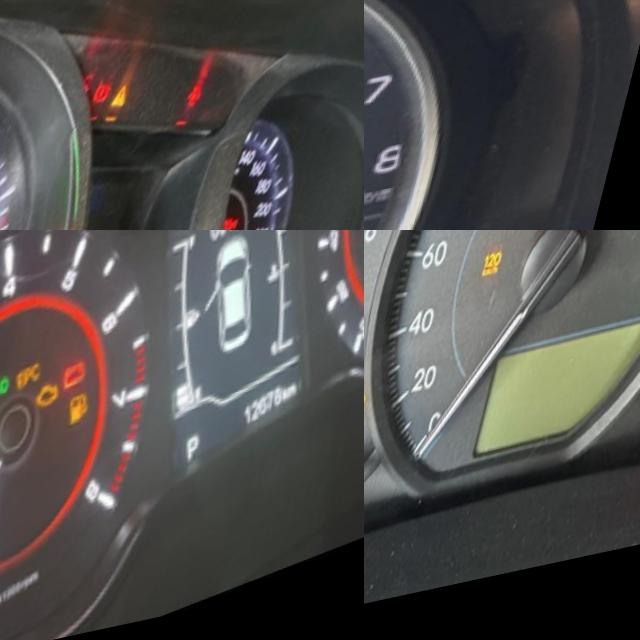Central Warning lamp: (115, 95, 144, 130)
Doors: (191, 94, 220, 133)
High Engine Coolant Temperature: (364, 278, 370, 313)
Low fuel level: (81, 397, 116, 440)
